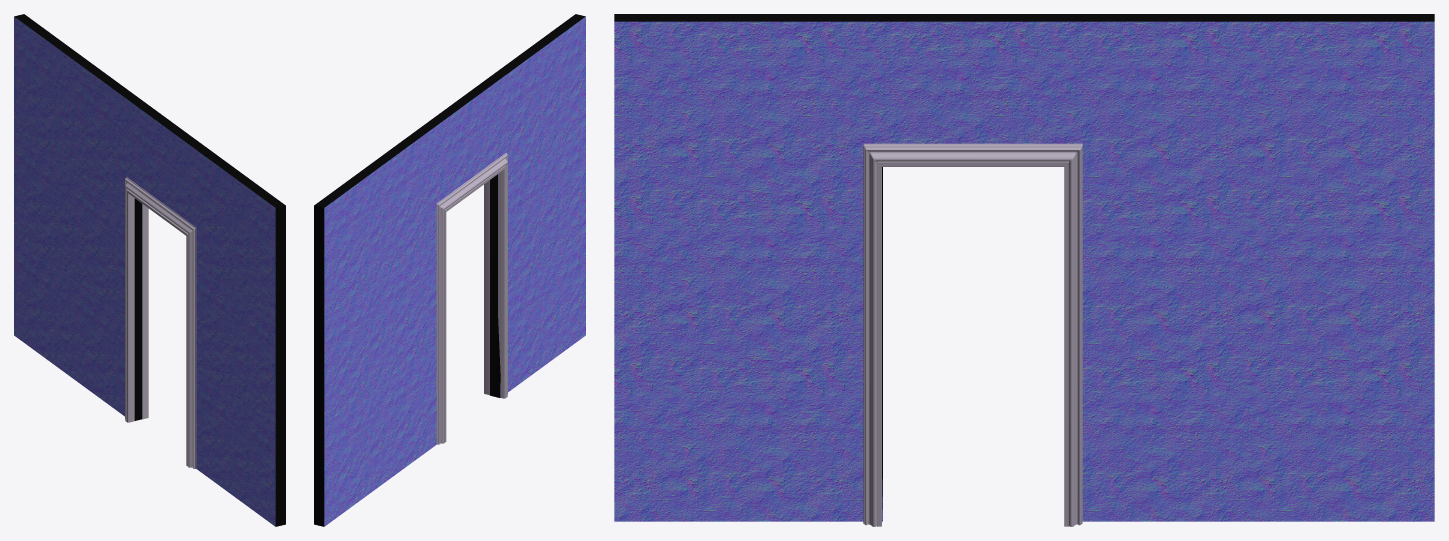
The model's file is DoorWall.fbx.
3 renders of one model, left to right at view 1: azimuth 30°, elevation 25°; view 2: azimuth 150°, elevation 25°; view 3: azimuth 270°, elevation 25°, orthographic. The views are drawn at different scales.
Parts seen in each view (by area): view 1: Separator_door__9_, ColonialCasing_LOD0_1, ColonialCasing_LOD0; view 2: Separator_door__9_, ColonialCasing_LOD0_1, ColonialCasing_LOD0; view 3: Separator_door__9_, ColonialCasing_LOD0.
Boxes of the visible parts, <box> form: Separator_door__9_: <box>14,14,285,526</box>; ColonialCasing_LOD0_1: <box>125,177,196,468</box>; ColonialCasing_LOD0: <box>142,204,148,419</box>; Separator_door__9_: <box>314,14,585,526</box>; ColonialCasing_LOD0_1: <box>436,152,507,444</box>; ColonialCasing_LOD0: <box>484,180,489,395</box>; Separator_door__9_: <box>614,14,1434,521</box>; ColonialCasing_LOD0: <box>863,143,1082,526</box>.
Size of the model in its own units: 20.97 by 300 by 445.
